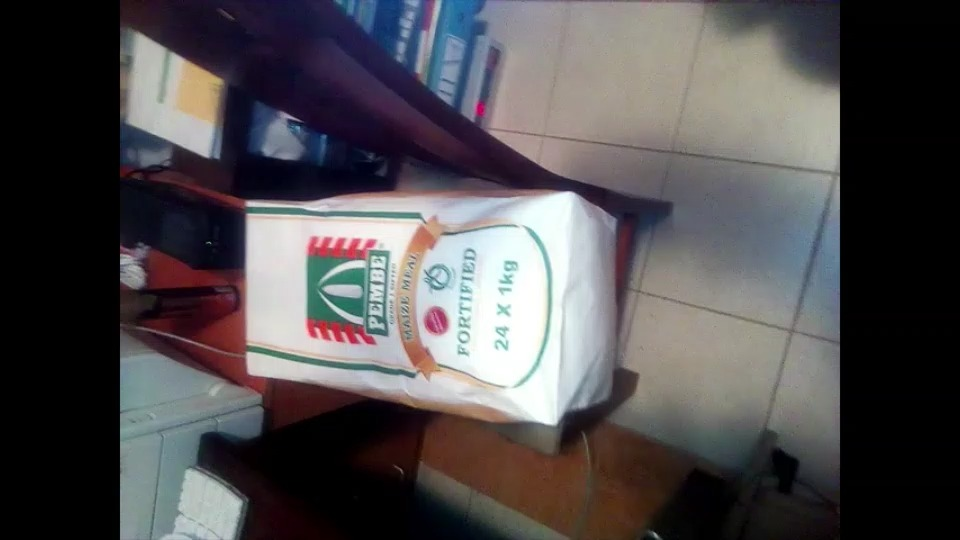maize_flour_green_label: (245, 175, 616, 420)
